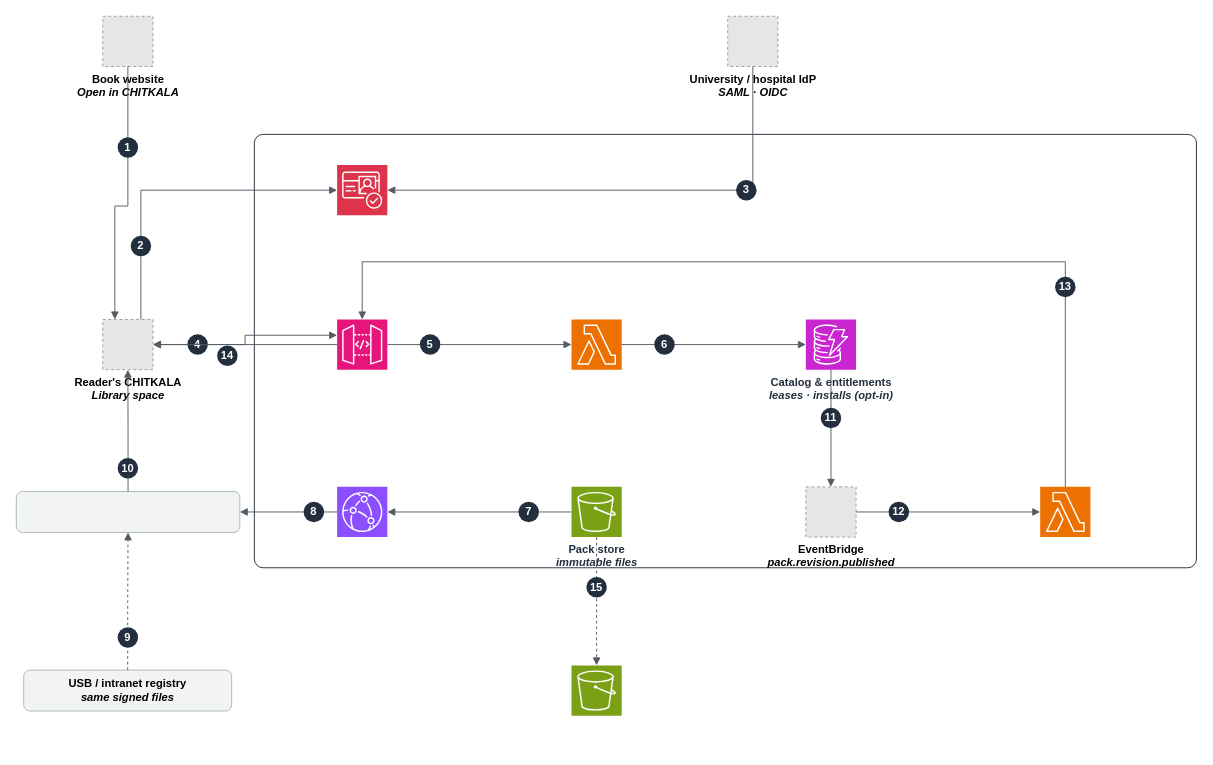
Image size: 1213x765. Some labels were removed from this diagram. Grey dashed boxes stand in for pictures. Here are the shapes that lost their labels. From the top down, the box of each, then its label:
(336, 164, 387, 215): Amazon Cognito users · institution SSO
(336, 319, 387, 370): API Gateway HTTP + WebSocket
(571, 319, 622, 370): Library API catalog · grants · updates
(253, 133, 1196, 568): AWS Cloud · managed Library registry
(15, 491, 240, 532): Verify → mount → index signature · hashes · read-only
(336, 486, 387, 537): CloudFront catalog · pack files
(1039, 486, 1090, 537): Update notifier errata · severity
(571, 664, 622, 716): Institution mirror S3 replication
